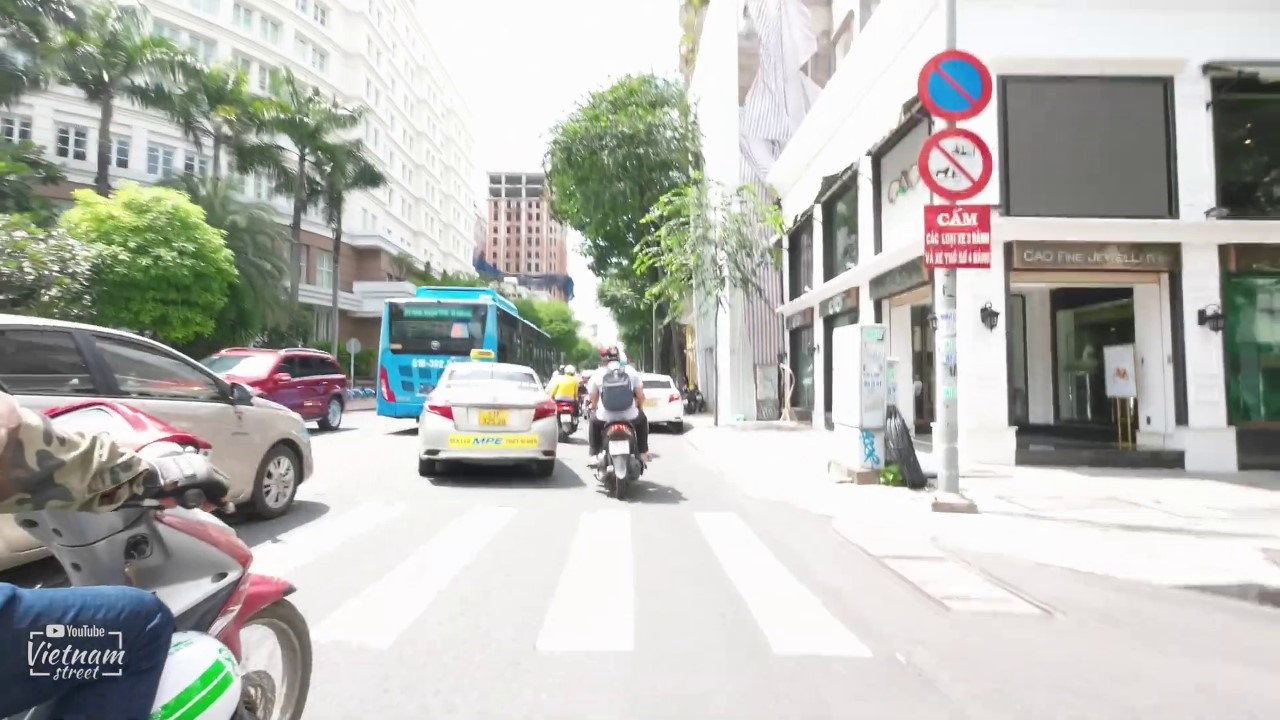cam_do_xe: (914, 46, 995, 122)
